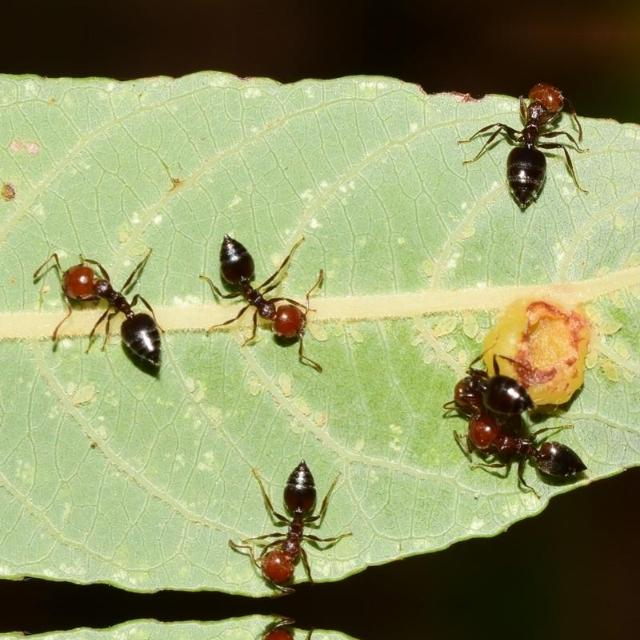Crematogaster: (46, 242, 176, 378), (236, 464, 354, 604), (476, 74, 576, 206), (201, 235, 317, 347), (466, 405, 590, 485), (450, 361, 530, 413), (236, 607, 354, 640)
